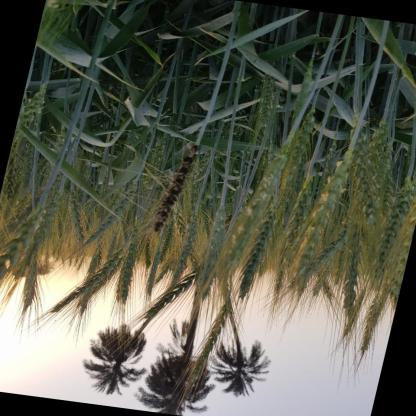Wheat Healthy: (357, 198, 384, 219), (351, 224, 375, 246), (360, 173, 386, 193), (366, 152, 390, 170), (60, 39, 77, 58), (7, 173, 20, 194), (372, 132, 385, 150), (313, 216, 326, 234), (120, 271, 130, 294), (324, 192, 336, 210), (332, 172, 346, 186), (299, 239, 316, 250), (302, 118, 312, 136), (17, 225, 29, 240), (284, 164, 294, 178), (247, 259, 256, 274), (280, 180, 291, 192), (182, 247, 192, 260), (77, 286, 90, 296), (6, 247, 16, 259), (318, 254, 330, 264), (28, 256, 38, 268), (91, 260, 101, 272), (201, 268, 213, 278), (92, 275, 104, 285), (243, 276, 250, 292), (252, 248, 262, 259), (27, 272, 36, 284), (190, 216, 197, 231), (62, 167, 75, 175), (393, 212, 399, 229), (24, 289, 34, 299), (185, 232, 194, 243), (209, 250, 218, 261), (121, 261, 132, 270), (214, 230, 221, 243), (106, 211, 117, 219), (126, 250, 137, 258), (110, 258, 118, 269), (74, 204, 79, 221), (38, 144, 50, 151), (118, 196, 125, 208), (216, 212, 222, 226), (381, 251, 387, 265), (304, 267, 318, 273), (349, 270, 356, 282), (290, 152, 299, 161), (386, 232, 392, 245), (34, 240, 40, 253), (347, 287, 353, 300), (295, 141, 304, 149), (46, 154, 55, 162), (49, 204, 55, 216), (38, 229, 46, 238), (99, 222, 110, 228), (260, 225, 266, 236), (77, 225, 83, 236), (255, 239, 263, 247), (178, 265, 186, 273), (167, 226, 172, 238), (82, 184, 90, 191), (41, 221, 52, 226), (72, 177, 82, 182), (333, 242, 341, 248), (60, 114, 65, 123), (163, 243, 167, 254), (83, 134, 90, 140), (92, 234, 101, 238), (94, 140, 101, 145), (293, 240, 295, 243)
Wheat Smut: (170, 186, 179, 194), (175, 177, 184, 184), (160, 204, 168, 211), (158, 213, 166, 220), (165, 196, 174, 202), (180, 165, 185, 174), (185, 157, 191, 164), (155, 223, 160, 230), (194, 146, 198, 154)
